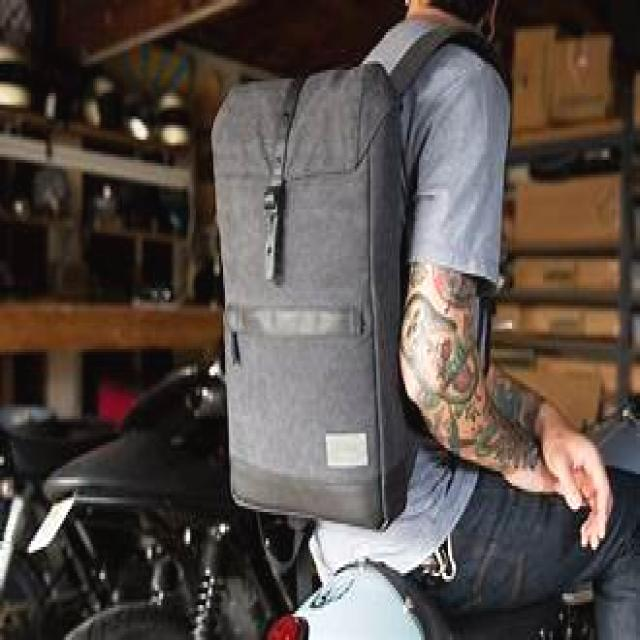backpack: (211, 22, 507, 531)
